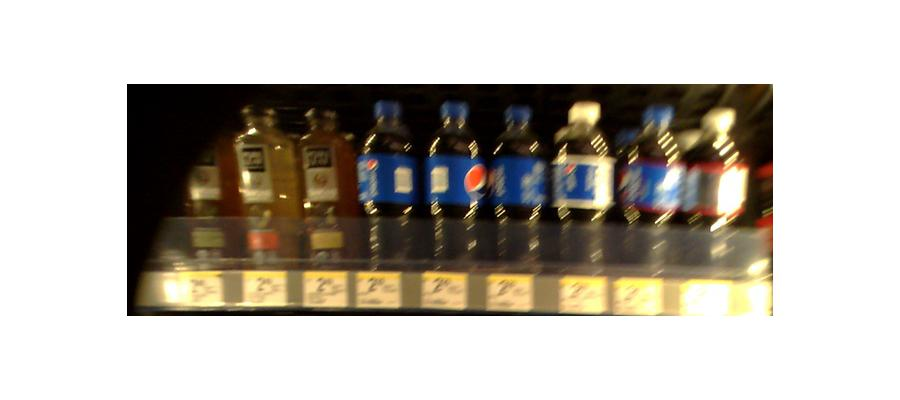bottle: (683, 102, 751, 275), (549, 99, 616, 274), (620, 99, 682, 272), (359, 98, 420, 268), (425, 94, 484, 267), (237, 107, 302, 264), (488, 102, 545, 272), (297, 110, 351, 261), (184, 106, 232, 270)
